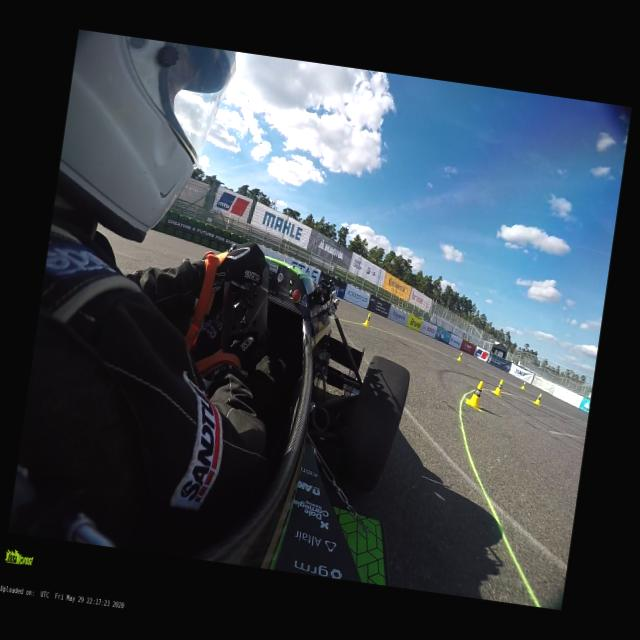yellow_cone: (466, 379, 484, 408), (494, 378, 504, 398), (363, 312, 372, 327), (533, 393, 543, 406), (457, 352, 462, 362), (520, 382, 526, 389)
